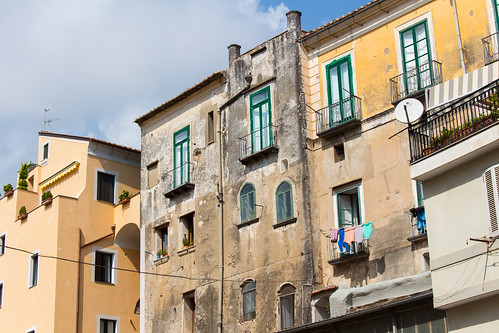building: (308, 3, 499, 333), (134, 39, 315, 333), (1, 118, 140, 333)
sky: (1, 1, 218, 106)
